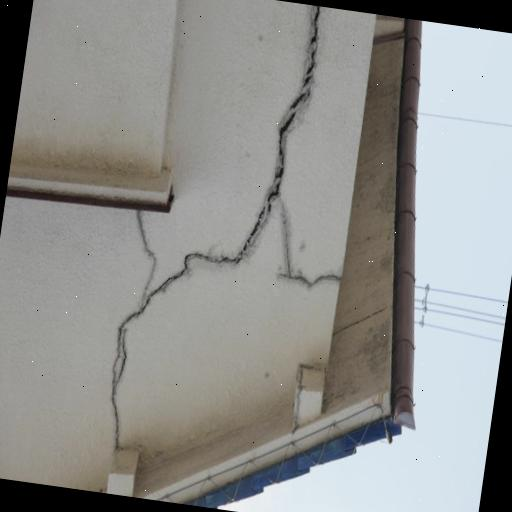spalling: (159, 12, 330, 299), (107, 215, 157, 446), (278, 216, 343, 295)
